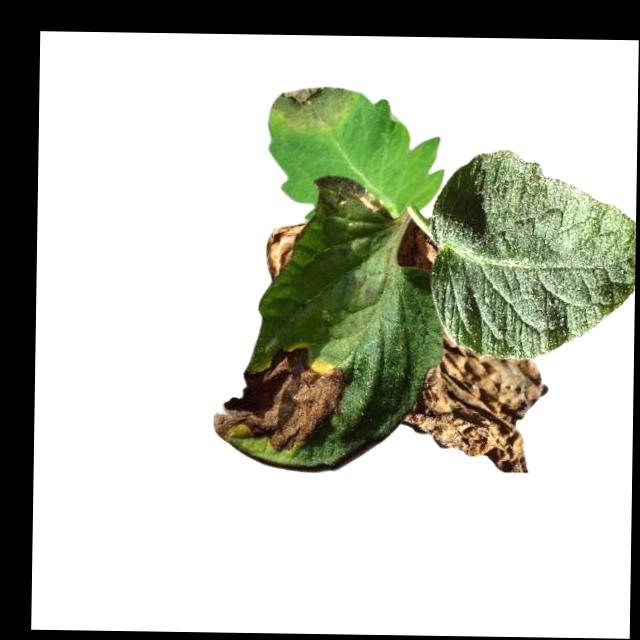Late_blight: (399, 330, 549, 474), (210, 341, 347, 455), (271, 80, 355, 136), (314, 174, 385, 219), (264, 221, 304, 282), (396, 223, 440, 274)
